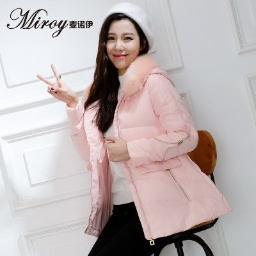face: (93, 11, 151, 86)
